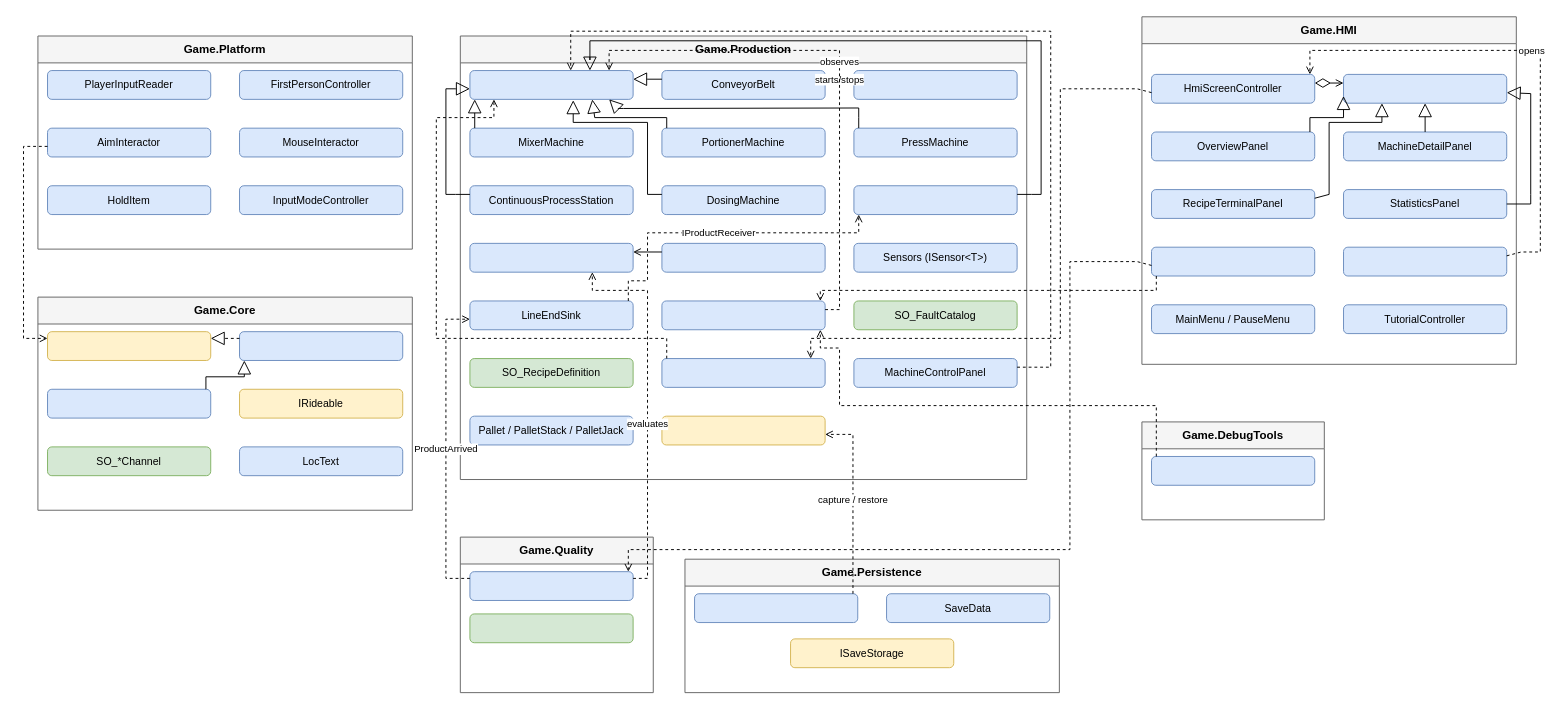
The diagram is 1565 pixels wide and 709 high, and some of its shapes have lost their labels. Here are the shapes that lost their labels. From the top down, the centre of each, then its label:
At (551,84): "MachineBase (abstract)".
At (935,84): "ConveyorLineController".
At (1425,88): "HmiPanelBase".
At (935,200): "PalletStation".
At (551,257): "ProductInstance".
At (743,257): "ProductToken".
At (1233,261): "LineStatusBinder".
At (1425,261): "TerminalInteractable".
At (743,315): "FaultMonitor".
At (129,345): "IInteractable".
At (321,345): "InteractableBase".
At (743,372): "MachineOverviewReporter".
At (129,403): "HoldInteractable".
At (743,430): "ISaveableState".
At (1233,470): "DebugPanel".
At (551,585): "QualityInspector".
At (551,628): "SO_QualitySpec".
At (776,608): "SaveLoadController".
